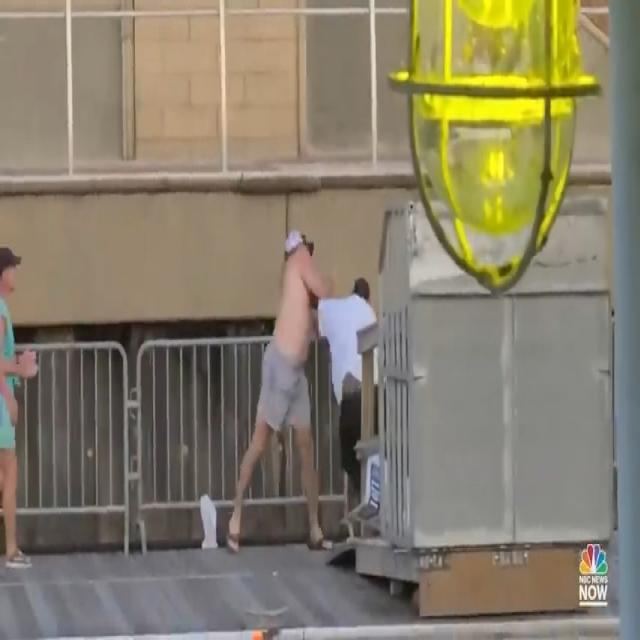fight: (220, 214, 382, 565)
